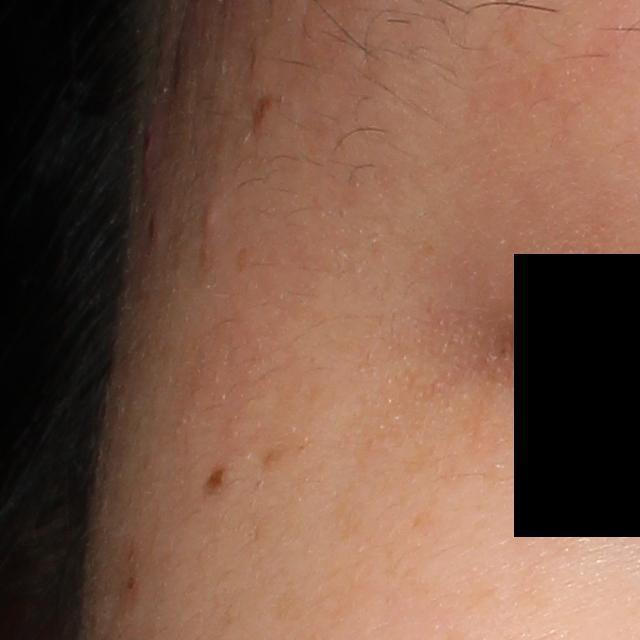comedo: (198, 202, 223, 241)
nevus: (202, 466, 230, 498)
papule: (136, 116, 161, 187)
